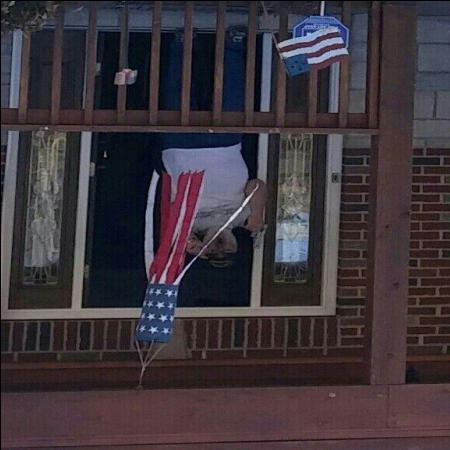Pistol: (239, 214, 277, 249)
